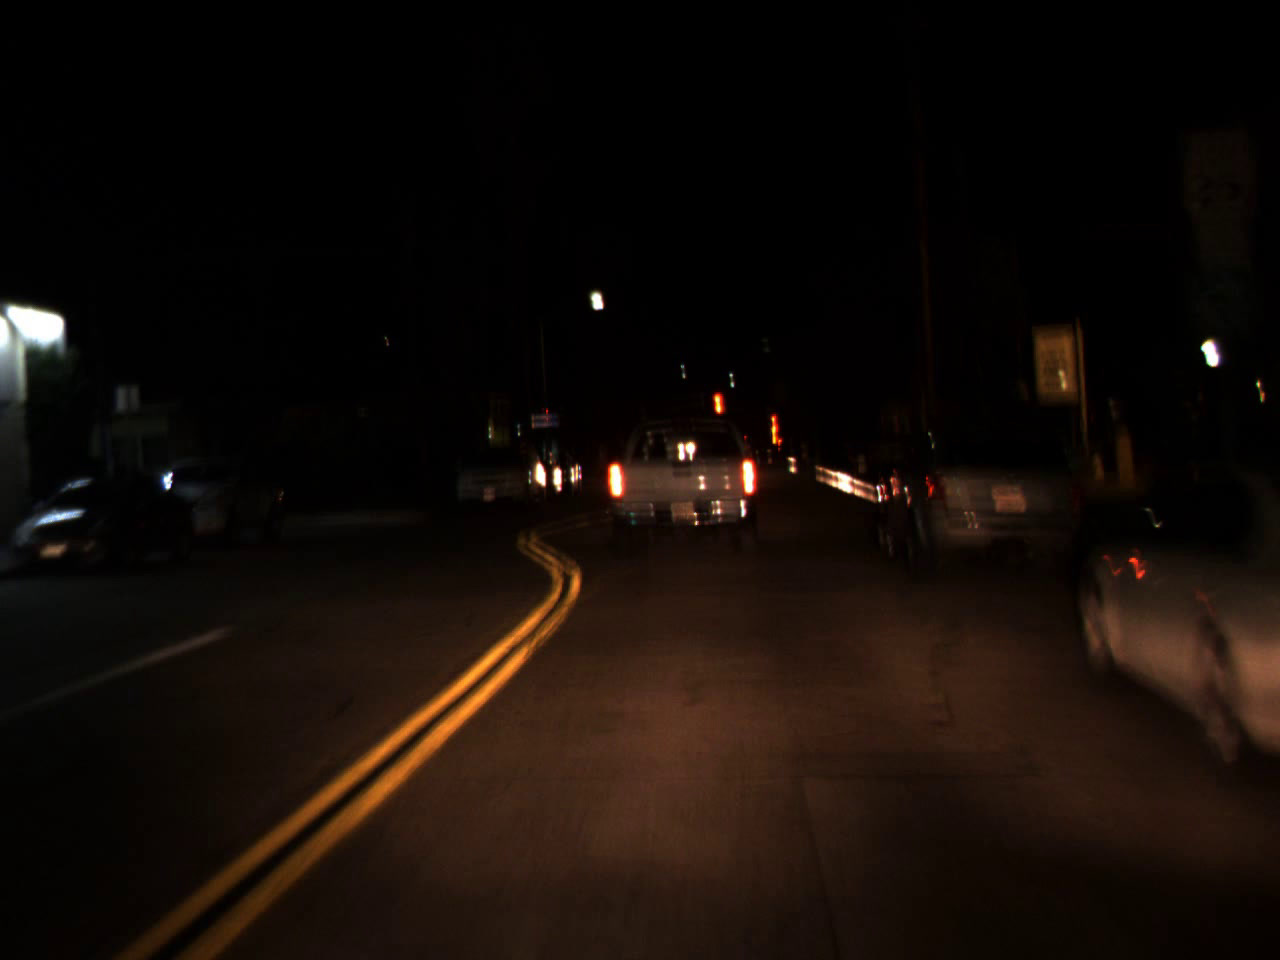stop: (767, 411, 782, 451), (709, 390, 725, 414)
